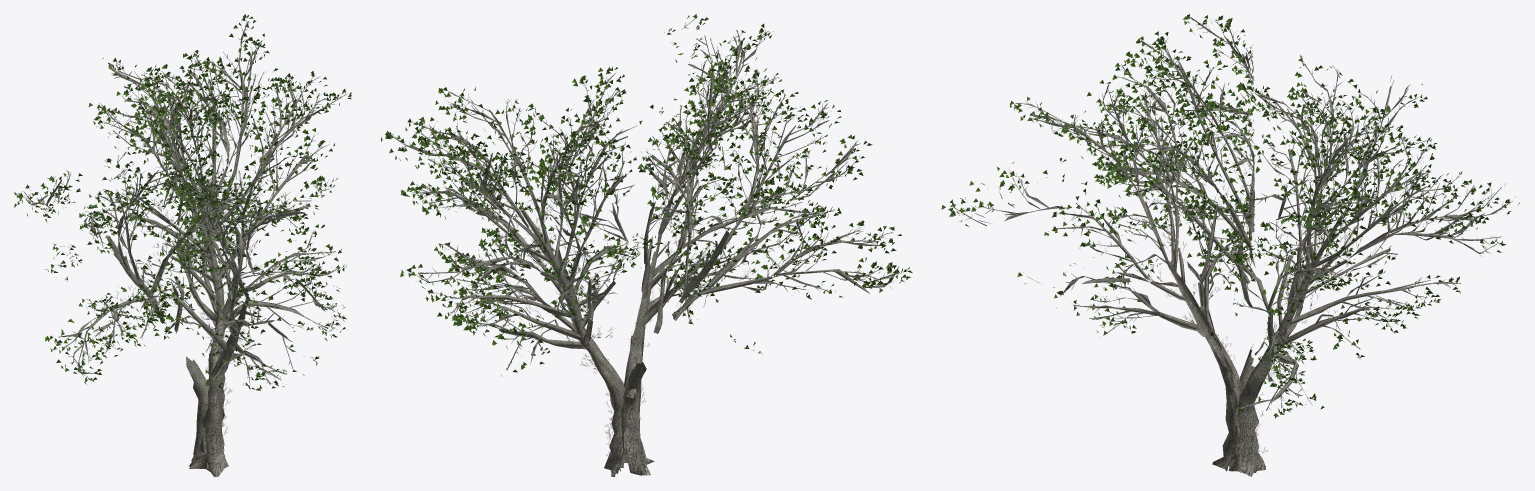
File: elmtree_far.glb
The picture shows the model from 3 angles, left to right: view 1: azimuth 30°, elevation 25°; view 2: azimuth 150°, elevation 25°; view 3: azimuth 270°, elevation 25°; orthographic projection. The views are drawn at different scales.
Visible parts, largest first — view 1: American Elm; view 2: American Elm; view 3: American Elm.
Part boxes in pixels (x1,y1,x2,y2): American Elm: [14, 14, 351, 476]; American Elm: [381, 14, 912, 476]; American Elm: [941, 14, 1519, 476].
Size of the model in its own units: 17.21 by 16.29 by 20.88.
Materials: 4 (4 with a texture image).
